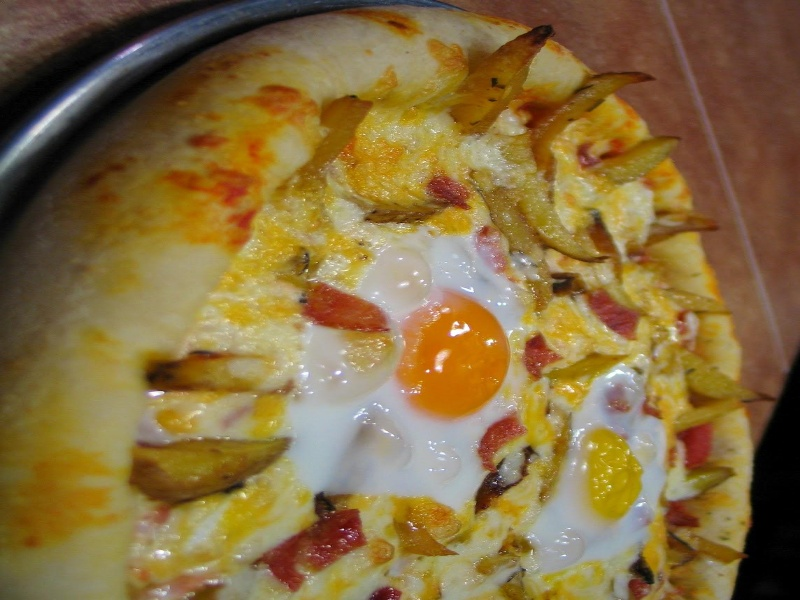oeuf: (385, 278, 518, 441)
